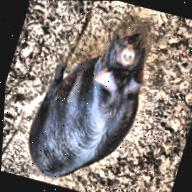boar: (18, 14, 161, 192)
